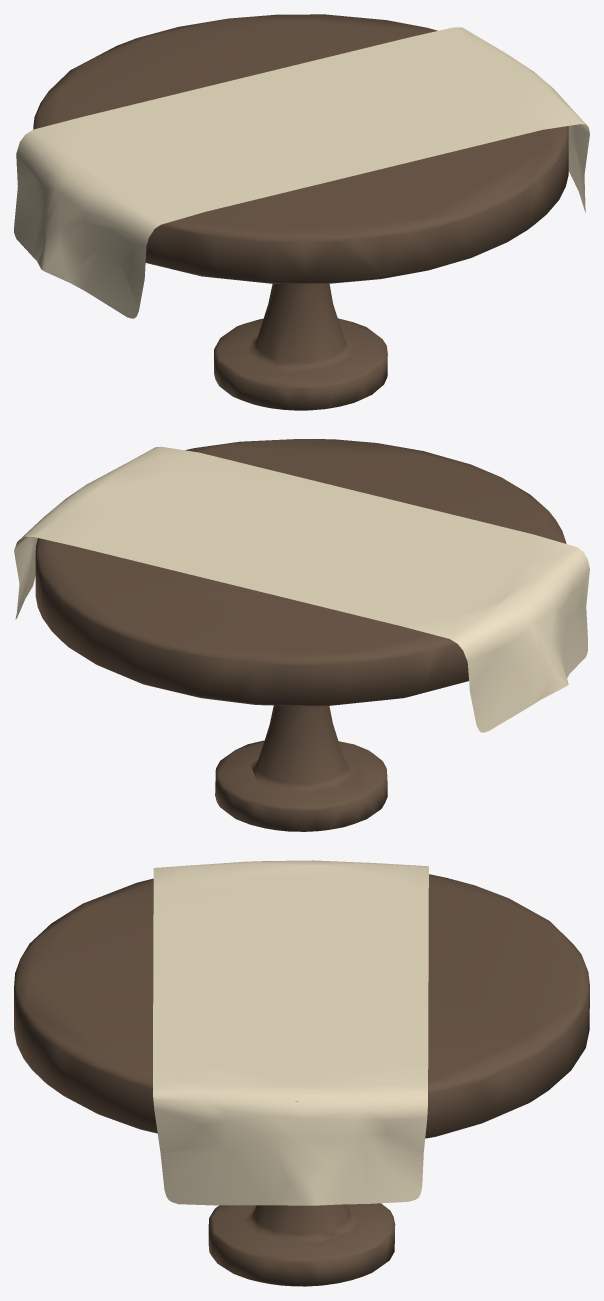
The model's file is table_with_one_cloth.glb.
The picture shows the model from 3 angles, top to bottom: view 1: azimuth 30°, elevation 25°; view 2: azimuth 150°, elevation 25°; view 3: azimuth 270°, elevation 25°; orthographic projection. The views are drawn at different scales.
Parts seen in each view (by area): view 1: table; view 2: table; view 3: table.
Part boxes in pixels (<box>): table: <box>14,14,589,410</box>; table: <box>14,439,589,831</box>; table: <box>14,860,589,1286</box>.
Size of the model in its own units: 1.84 by 0.8535 by 1.63.
